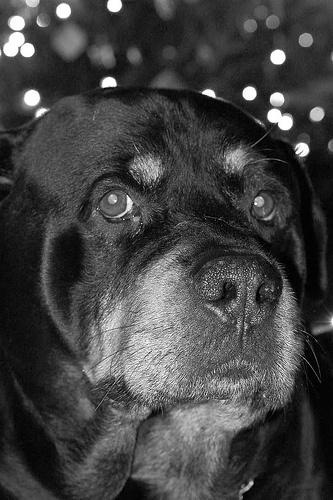dog: (2, 86, 333, 500)
